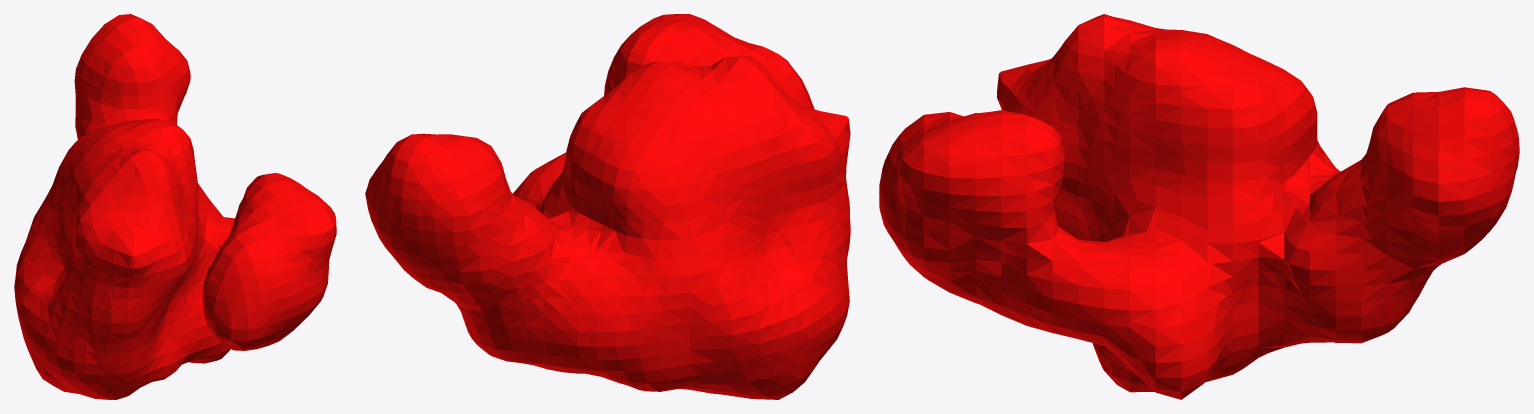
The model's file is yaiI_coarse.dae.
The picture shows the model from 3 angles, left to right: view 1: azimuth 30°, elevation 25°; view 2: azimuth 150°, elevation 25°; view 3: azimuth 270°, elevation 25°; orthographic projection. The views are drawn at different scales.
Parts seen in each view (by area): view 1: yaiI; view 2: yaiI; view 3: yaiI.
Boxes of the visible parts, x1,y1,x2,y2 form: yaiI: [14, 14, 336, 399]; yaiI: [365, 14, 850, 399]; yaiI: [879, 14, 1519, 399].
Bounding box in the file's own units: 39.67 × 36 × 62.71.
